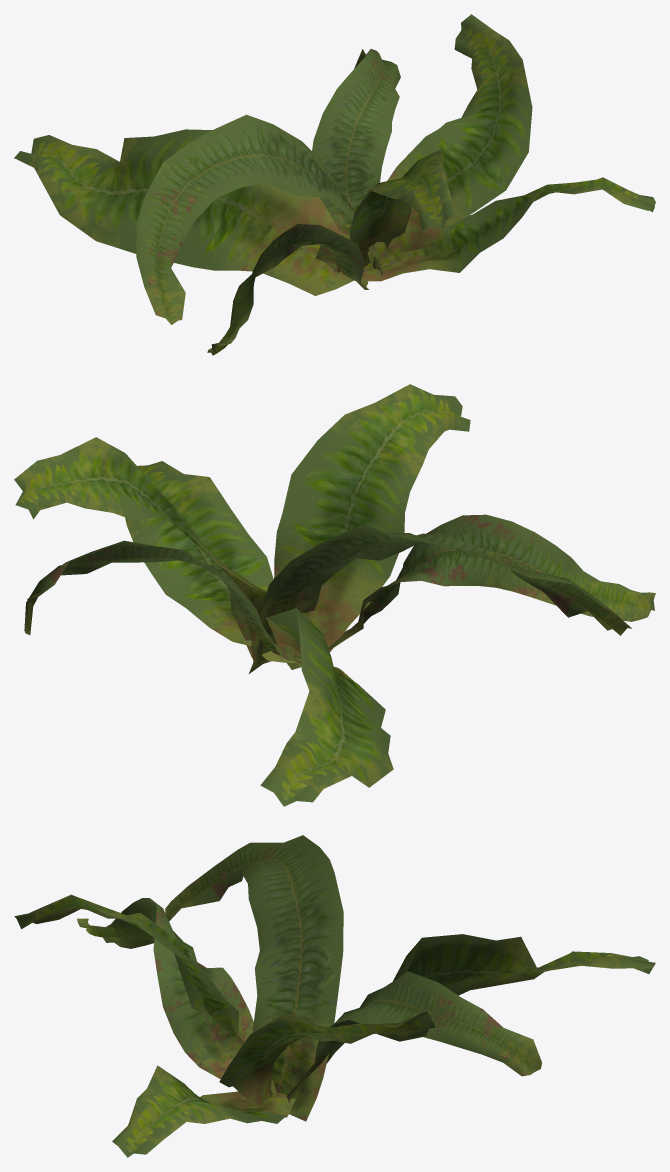
File: fern_3.glb
The picture shows the model from 3 angles, top to bottom: view 1: azimuth 30°, elevation 25°; view 2: azimuth 150°, elevation 25°; view 3: azimuth 270°, elevation 25°; orthographic projection. The views are drawn at different scales.
Parts seen in each view (by area): view 1: fern_02_d; view 2: fern_02_d; view 3: fern_02_d.
Boxes of the visible parts, x1,y1,x2,y2 form: fern_02_d: (14,14,655,355); fern_02_d: (14,384,655,806); fern_02_d: (14,835,655,1157).
Bounding box in the file's own units: 0.5728 × 0.2131 × 0.5933.
Materials: 1 (1 with a texture image).
